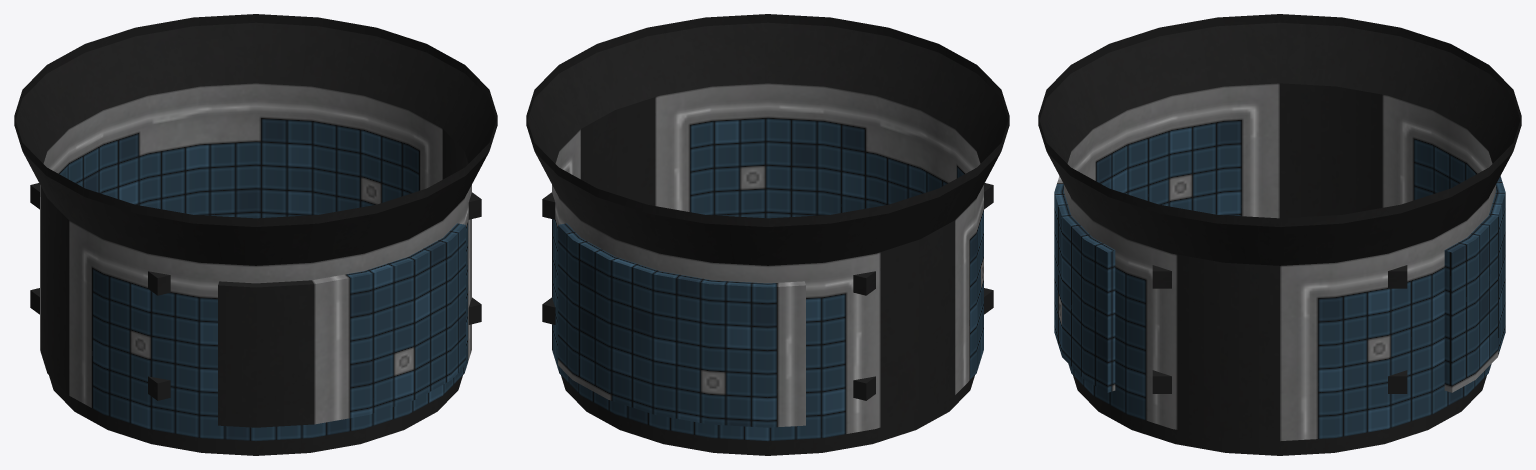
The model's file is cygnus_service_module_s1p5_1.obj.
3 views of the same model, side by side, from view 1: azimuth 30°, elevation 25°; view 2: azimuth 150°, elevation 25°; view 3: azimuth 270°, elevation 25° (orthographic).
Visible parts, largest first — view 1: mesh1; view 2: mesh1; view 3: mesh1.
Part boxes in pixels (<box>): mesh1: <box>14,14,497,455</box>; mesh1: <box>526,14,1009,455</box>; mesh1: <box>1038,14,1521,455</box>.
Size of the model in its own units: 1.88 by 1.07 by 1.88.
